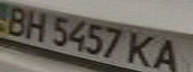4: (63, 17, 90, 53)
5: (81, 20, 109, 56), (45, 11, 72, 48)
7: (100, 25, 127, 61)
A: (148, 35, 187, 72)
B: (0, 2, 33, 36)
H: (18, 7, 51, 42)
K: (124, 30, 163, 69)
